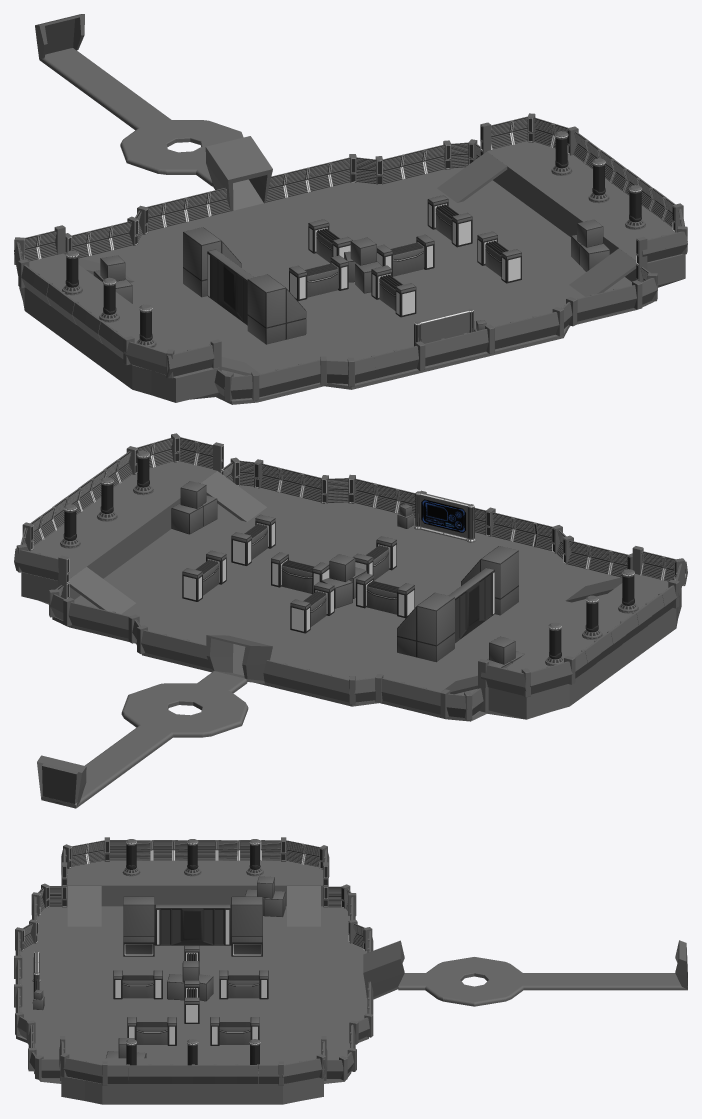
Rendered from Entorno.fbx.
3 renders of one model, top to bottom at view 1: azimuth 30°, elevation 25°; view 2: azimuth 150°, elevation 25°; view 3: azimuth 270°, elevation 25°, orthographic. The views are drawn at different scales.
Parts seen in each view (by area): view 1: Plane, Plane.001, Cube.117, Cube, Cube.020, Cube.002, Plane.005, Plane.004, Cube.001, Cube.126, Cube.121, Cube.116 (+15 smaller); view 2: Plane, Plane.001, Cube.002, Cube.126, Cube.020, Cube, Cube.117, Cube.001, Plane.005, Plane.004, Cube.116, Cube.121 (+18 smaller); view 3: Plane, Plane.001, Cube.020, Cube.002, Cube.117, Cube, Plane.003, Plane.006, Cube.128, Cube.131, Cube.113, Cube.022 (+18 smaller).
Boxes of the visible parts, <box> form: Plane: <box>19,141,685,404</box>; Plane.001: <box>39,48,243,186</box>; Cube.117: <box>247,274,306,344</box>; Cube: <box>205,136,272,211</box>; Cube.020: <box>207,249,253,325</box>; Cube.002: <box>183,227,241,297</box>; Plane.005: <box>437,151,507,202</box>; Plane.004: <box>569,248,636,296</box>; Cube.001: <box>35,14,84,58</box>; Cube.126: <box>414,308,474,346</box>; Cube.121: <box>305,263,337,297</box>; Cube.116: <box>390,242,423,276</box>; Plane: <box>21,461,681,721</box>; Plane.001: <box>41,671,248,808</box>; Cube.002: <box>397,592,454,662</box>; Cube.126: <box>414,491,476,542</box>; Cube.020: <box>448,567,494,642</box>; Cube: <box>206,635,272,680</box>; Cube.117: <box>461,546,518,615</box>; Cube.001: <box>37,755,86,806</box>; Plane.005: <box>69,567,135,613</box>; Plane.004: <box>201,471,266,521</box>; Cube.116: <box>281,560,314,593</box>; Cube.121: <box>366,581,399,614</box>; Plane: <box>16,860,368,1104</box>; Plane.001: <box>398,957,687,1006</box>; Cube.020: <box>154,904,231,945</box>; Cube.002: <box>231,896,262,956</box>; Cube.117: <box>123,896,154,956</box>; Cube: <box>363,940,404,998</box>; Plane.003: <box>67,886,101,926</box>; Plane.006: <box>287,886,320,926</box>; Cube.128: <box>122,975,153,998</box>; Cube.131: <box>228,975,259,998</box>; Cube.113: <box>136,1022,167,1044</box>; Cube.022: <box>219,1022,250,1044</box>.
Bounding box in the file's own units: 10579 × 1238 × 13219.
